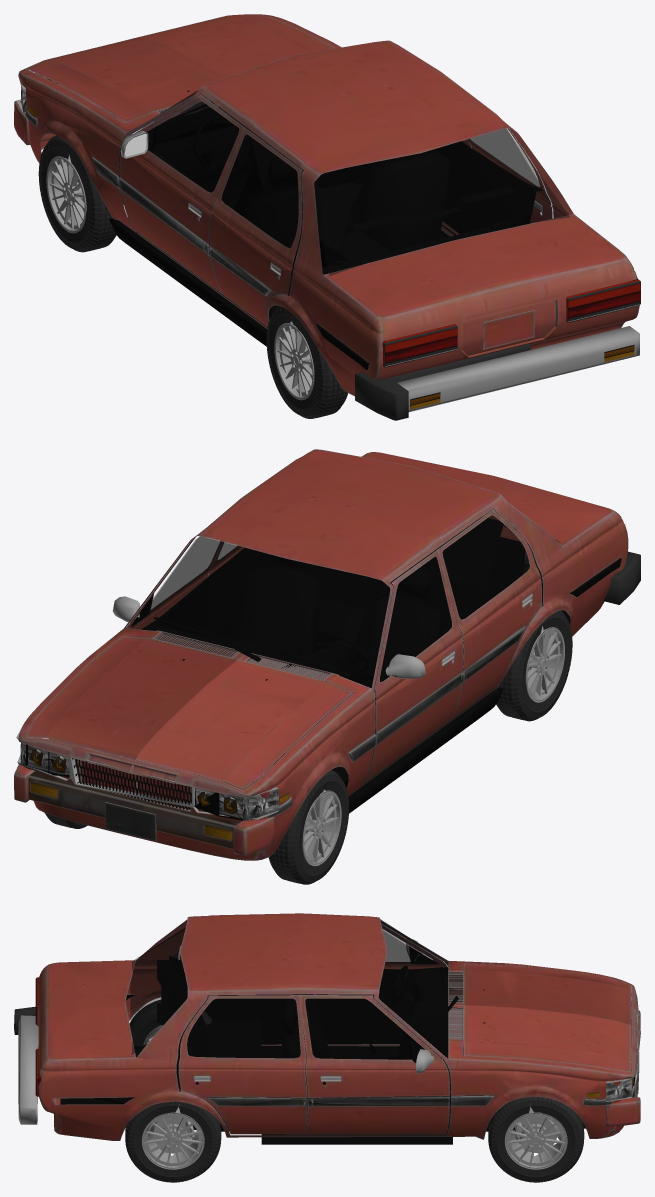
File: car_corolla_e70.glb
3 views of the same model, one above another, from view 1: azimuth 30°, elevation 25°; view 2: azimuth 150°, elevation 25°; view 3: azimuth 270°, elevation 25° (orthographic). The views are drawn at different scales.
Parts seen in each view (by area): view 1: base001, Object016_Material #53_0, toy_corolladx_95_interior_interior_001_Acrylic Opaque Black_, Plane013, Box043, toy_corolladx_95_seatR_interior_001, Plane007__0, Object001_Aluminium Brushed Distorted_0, toy_corolladx_95_seatL_interior_001, Box004, Plane009, Box044 (+4 smaller); view 2: base001, Object_Material #53_0, toy_corolladx_95_interior_interior_001_Acrylic Opaque Black_, Plane013, Plane007__0, toy_corolladx_95_seatR_interior_001, toy_corolladx_95_seatL_interior_001, Object001_Aluminium Brushed Distorted_0, Box004, NGon001_Acrylic Opaque Black_0, Plane009, NGon001_Aluminium Brushed Distorted_0 (+6 smaller); view 3: base001, toy_corolladx_95_interior_interior_001_Acrylic Opaque Black_, Plane013, Plane007__0, Object001_Aluminium Brushed Distorted_0, Object_Material #53_0, Object016_Material #53_0, Box043, toy_corolladx_95_seatL_interior_001, toy_corolladx_95_seatR_interior_001, toy_corolladx_95_undercarriagea_undercarriage_001_Acrylic Op, Box004 (+3 smaller).
Part boxes in pixels (x1,y1,x2,y2): base001: (14, 14, 639, 396); Object016_Material #53_0: (314, 129, 569, 275); toy_corolladx_95_interior_interior_001_Acrylic Opaque Black_: (135, 106, 543, 319); Plane013: (154, 102, 550, 254); Box043: (397, 326, 639, 412); toy_corolladx_95_seatR_interior_001: (345, 149, 450, 250); Plane007__0: (38, 135, 347, 418); Object001_Aluminium Brushed Distorted_0: (46, 154, 314, 400); toy_corolladx_95_seatL_interior_001: (210, 155, 324, 275); Box004: (109, 217, 268, 346); Plane009: (355, 343, 530, 420); Box044: (382, 324, 457, 367); base001: (14, 449, 628, 860); Object_Material #53_0: (131, 536, 389, 686); toy_corolladx_95_interior_interior_001_Acrylic Opaque Black_: (141, 516, 529, 786); Plane013: (136, 515, 536, 661); Plane007__0: (45, 603, 572, 884); toy_corolladx_95_seatR_interior_001: (223, 553, 321, 656); toy_corolladx_95_seatL_interior_001: (350, 567, 444, 751); Object001_Aluminium Brushed Distorted_0: (78, 625, 564, 866); Box004: (346, 687, 503, 813); NGon001_Acrylic Opaque Black_0: (26, 744, 242, 820); Plane009: (523, 543, 640, 604); NGon001_Aluminium Brushed Distorted_0: (16, 726, 278, 819); base001: (37, 913, 640, 1140); toy_corolladx_95_interior_interior_001_Acrylic Opaque Black_: (157, 955, 462, 1144); Plane013: (173, 931, 434, 1058); Plane007__0: (125, 999, 584, 1182); Object001_Aluminium Brushed Distorted_0: (141, 1025, 567, 1169); Object_Material #53_0: (379, 919, 447, 1055); Object016_Material #53_0: (130, 927, 187, 1054); Box043: (18, 1015, 38, 1124); toy_corolladx_95_seatL_interior_001: (281, 994, 380, 1059); toy_corolladx_95_seatR_interior_001: (280, 1000, 329, 1117); toy_corolladx_95_undercarriagea_undercarriage_001_Acrylic Op: (60, 1044, 602, 1131); Box004: (261, 1046, 463, 1055).
Bounding box in the file's own units: 189 × 139 × 415.
Materials: 8 (3 with a texture image).
